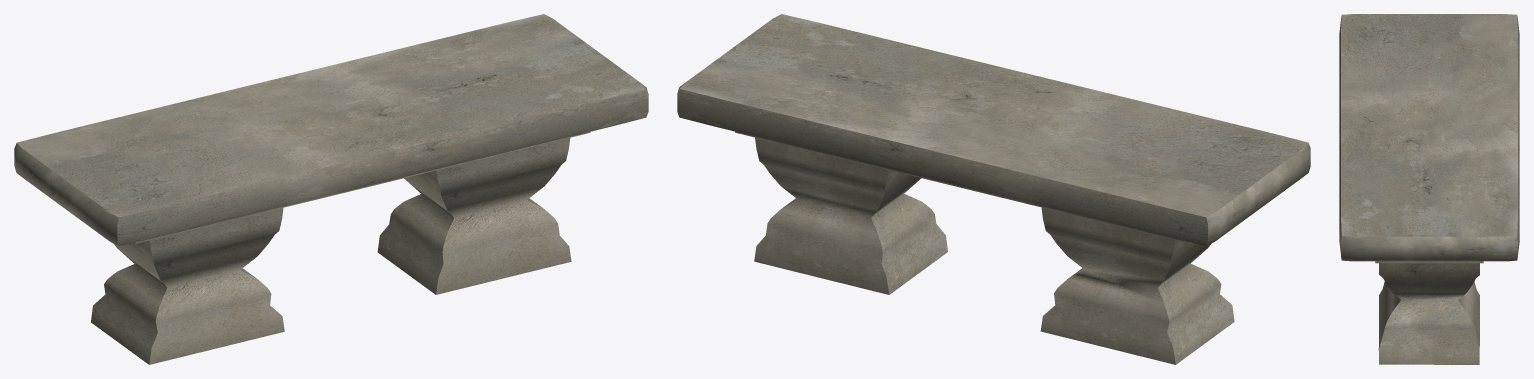
File: stone_bench_2.glb
3 views of the same model, side by side, from view 1: azimuth 30°, elevation 25°; view 2: azimuth 150°, elevation 25°; view 3: azimuth 270°, elevation 25° (orthographic). The views are drawn at different scales.
Parts seen in each view (by area): view 1: Banco_2; view 2: Banco_2; view 3: Banco_2.
Boxes of the visible parts, x1,y1,x2,y2 form: Banco_2: (14,14,648,364); Banco_2: (677,14,1310,364); Banco_2: (1339,14,1519,364).
Bounding box in the file's own units: 5.23 × 1.63 × 1.76.
1 material, 1 textured.
